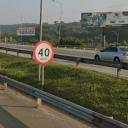speed_limit_40: (34, 41, 54, 65)
